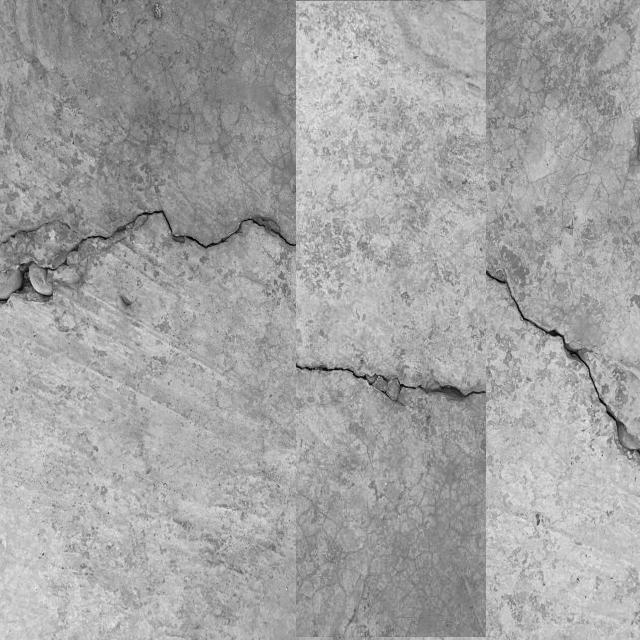diagonal crack: (489, 253, 640, 473)
horizontal crack: (0, 205, 296, 315), (296, 350, 486, 424)
